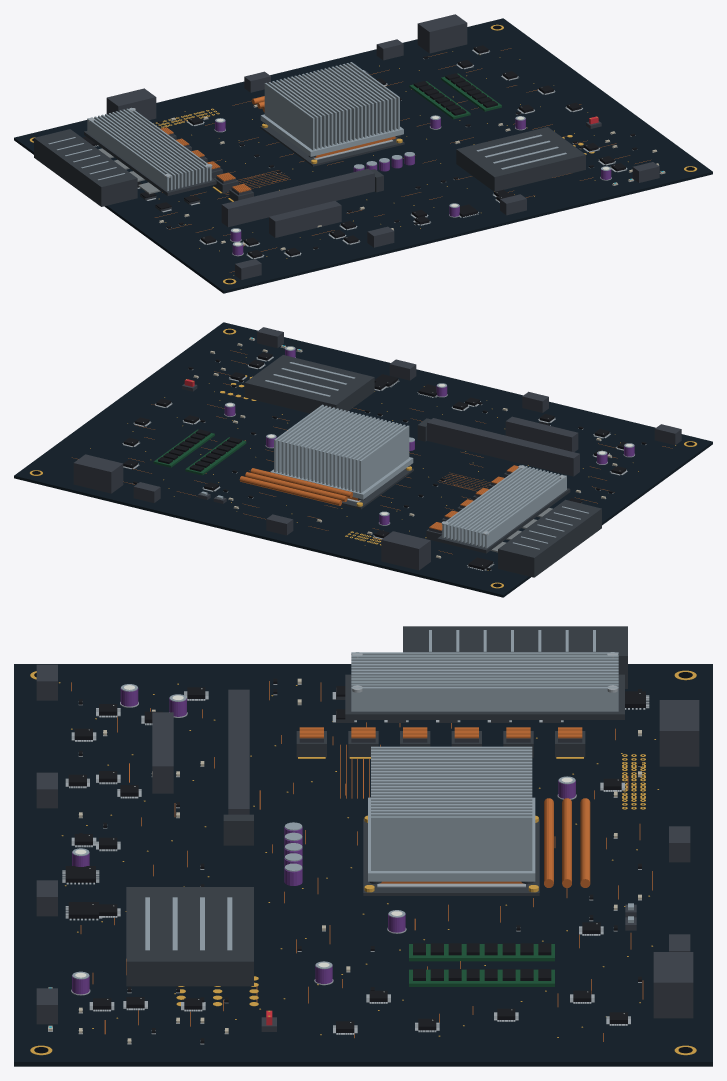
The model's file is ProjectSpark_Level110_PWR18_Complete_Assembled_Board.fbx.
The picture shows the model from 3 angles, top to bottom: view 1: azimuth 30°, elevation 25°; view 2: azimuth 150°, elevation 25°; view 3: azimuth 270°, elevation 25°; orthographic projection. The views are drawn at different scales.
Parts seen in each view (by area): view 1: L110_PWR18_Complete_Assembled_Board_PCB, L110_PWR18_Complete_Assembled_Board_ALUMINUM, L110_PWR18_Complete_Assembled_Board_DARK_METAL, L110_PWR18_Complete_Assembled_Board_POLYMER, L110_PWR18_Complete_Assembled_Board_EPOXY, L110_PWR18_Complete_Assembled_Board_COPPER, L110_PWR18_Complete_Assembled_Board_SOLDER, L110_PWR18_Complete_Assembled_Board_PURPLE, L110_PWR18_Complete_Assembled_Board_GREEN, L110_PWR18_Complete_Assembled_Board_GOLD; view 2: L110_PWR18_Complete_Assembled_Board_PCB, L110_PWR18_Complete_Assembled_Board_ALUMINUM, L110_PWR18_Complete_Assembled_Board_POLYMER, L110_PWR18_Complete_Assembled_Board_DARK_METAL, L110_PWR18_Complete_Assembled_Board_EPOXY, L110_PWR18_Complete_Assembled_Board_COPPER, L110_PWR18_Complete_Assembled_Board_SOLDER, L110_PWR18_Complete_Assembled_Board_GREEN, L110_PWR18_Complete_Assembled_Board_PURPLE, L110_PWR18_Complete_Assembled_Board_GOLD; view 3: L110_PWR18_Complete_Assembled_Board_PCB, L110_PWR18_Complete_Assembled_Board_ALUMINUM, L110_PWR18_Complete_Assembled_Board_DARK_METAL, L110_PWR18_Complete_Assembled_Board_POLYMER, L110_PWR18_Complete_Assembled_Board_EPOXY, L110_PWR18_Complete_Assembled_Board_COPPER, L110_PWR18_Complete_Assembled_Board_SOLDER, L110_PWR18_Complete_Assembled_Board_GREEN, L110_PWR18_Complete_Assembled_Board_PURPLE, L110_PWR18_Complete_Assembled_Board_GOLD.
Boxes of the visible parts, left/top/right/bottom form: L110_PWR18_Complete_Assembled_Board_PCB: left=14, top=18, right=712, bottom=293; L110_PWR18_Complete_Assembled_Board_ALUMINUM: left=48, top=62, right=611, bottom=246; L110_PWR18_Complete_Assembled_Board_DARK_METAL: left=34, top=122, right=585, bottom=211; L110_PWR18_Complete_Assembled_Board_POLYMER: left=106, top=14, right=659, bottom=279; L110_PWR18_Complete_Assembled_Board_EPOXY: left=82, top=45, right=637, bottom=258; L110_PWR18_Complete_Assembled_Board_COPPER: left=155, top=48, right=650, bottom=272; L110_PWR18_Complete_Assembled_Board_SOLDER: left=88, top=49, right=665, bottom=258; L110_PWR18_Complete_Assembled_Board_PURPLE: left=215, top=118, right=611, bottom=255; L110_PWR18_Complete_Assembled_Board_GREEN: left=409, top=73, right=501, bottom=119; L110_PWR18_Complete_Assembled_Board_GOLD: left=30, top=24, right=696, bottom=284; L110_PWR18_Complete_Assembled_Board_PCB: left=14, top=322, right=712, bottom=597; L110_PWR18_Complete_Assembled_Board_ALUMINUM: left=201, top=346, right=634, bottom=549; L110_PWR18_Complete_Assembled_Board_POLYMER: left=73, top=327, right=681, bottom=570; L110_PWR18_Complete_Assembled_Board_DARK_METAL: left=244, top=355, right=601, bottom=577; L110_PWR18_Complete_Assembled_Board_EPOXY: left=123, top=352, right=646, bottom=570; L110_PWR18_Complete_Assembled_Board_COPPER: left=72, top=350, right=672, bottom=554; L110_PWR18_Complete_Assembled_Board_SOLDER: left=122, top=339, right=646, bottom=570; L110_PWR18_Complete_Assembled_Board_GREEN: left=153, top=429, right=246, bottom=475; L110_PWR18_Complete_Assembled_Board_PURPLE: left=224, top=348, right=634, bottom=524; L110_PWR18_Complete_Assembled_Board_GOLD: left=30, top=328, right=696, bottom=588; L110_PWR18_Complete_Assembled_Board_PCB: left=14, top=664, right=712, bottom=1066; L110_PWR18_Complete_Assembled_Board_ALUMINUM: left=72, top=630, right=633, bottom=979; L110_PWR18_Complete_Assembled_Board_DARK_METAL: left=126, top=626, right=627, bottom=986; L110_PWR18_Complete_Assembled_Board_POLYMER: left=36, top=664, right=699, bottom=1031; L110_PWR18_Complete_Assembled_Board_EPOXY: left=65, top=678, right=645, bottom=1043; L110_PWR18_Complete_Assembled_Board_COPPER: left=71, top=681, right=652, bottom=1041; L110_PWR18_Complete_Assembled_Board_SOLDER: left=48, top=652, right=649, bottom=1044; L110_PWR18_Complete_Assembled_Board_GREEN: left=409, top=944, right=554, bottom=986; L110_PWR18_Complete_Assembled_Board_PURPLE: left=72, top=688, right=575, bottom=994; L110_PWR18_Complete_Assembled_Board_GOLD: left=30, top=670, right=696, bottom=1055.
Size of the model in its own units: 314 by 230 by 29.6.
